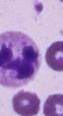N: (0, 30, 42, 88)
